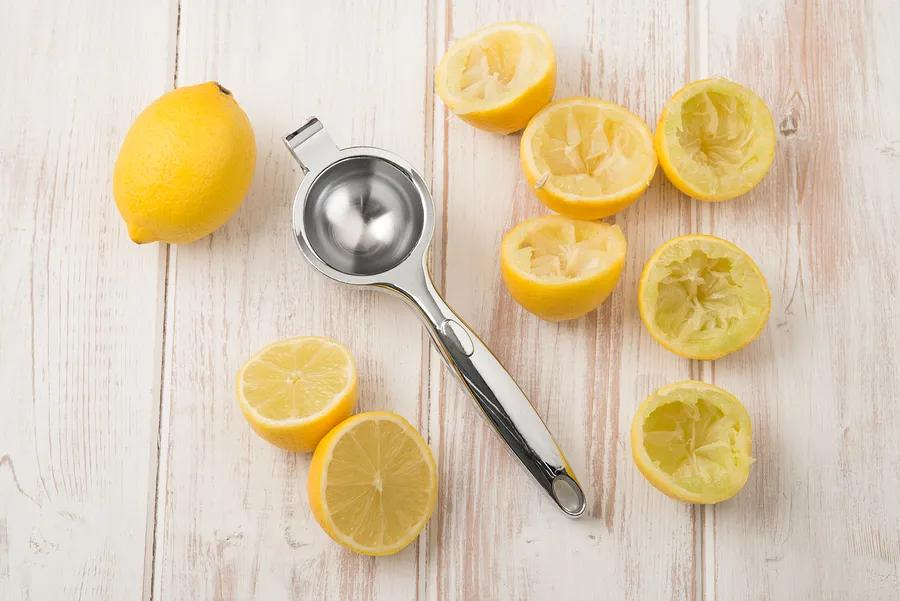organic: (308, 411, 436, 555), (520, 97, 656, 219), (638, 234, 770, 359), (654, 77, 775, 201), (631, 380, 752, 503), (236, 336, 356, 450), (435, 22, 555, 133), (501, 215, 625, 319)
